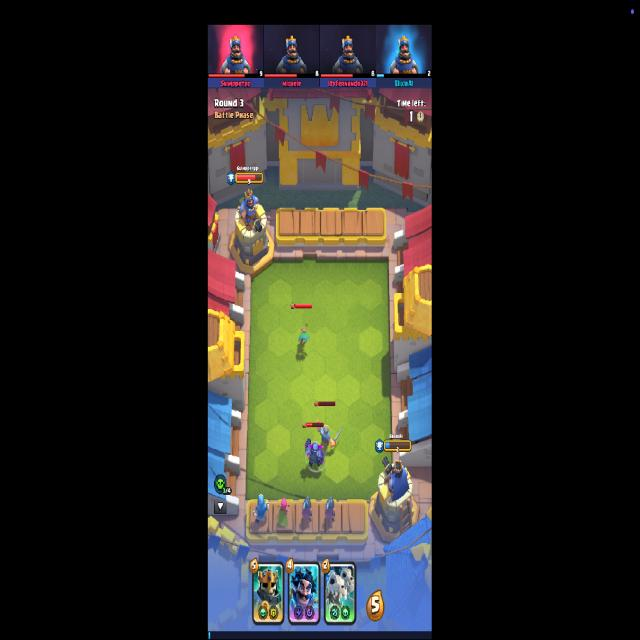archer: (275, 498, 291, 528)
card_e_wiz: (287, 561, 321, 626)
card_skeleton_dragon: (324, 560, 357, 625)
card_skeleton_king: (253, 562, 284, 625)
dart_goblin: (296, 320, 309, 348)
knight: (318, 421, 343, 451)
musketeer: (324, 498, 338, 530), (300, 496, 313, 524)
pekka: (304, 436, 328, 470)
wizard: (252, 494, 269, 524)
